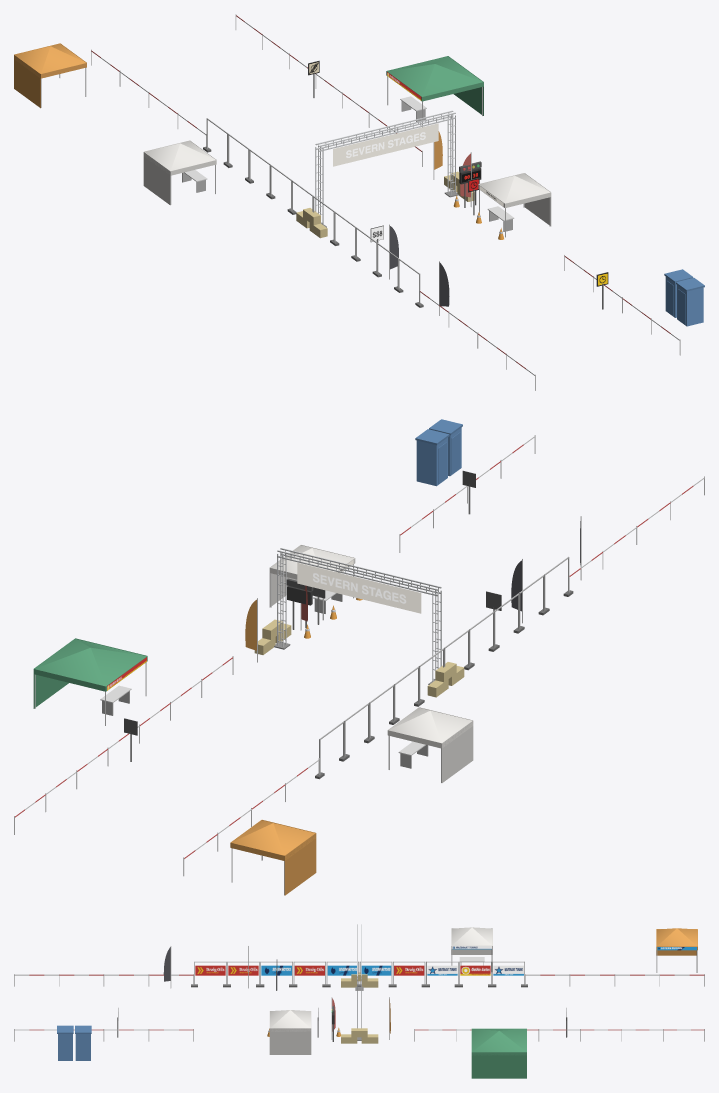
The model's file is start_8.glb.
3 renders of one model, top to bottom at view 1: azimuth 30°, elevation 25°; view 2: azimuth 150°, elevation 25°; view 3: azimuth 270°, elevation 25°, orthographic. The views are drawn at different scales.
Bounding box in the file's own units: 21.23 × 5.1 × 50.05.
Materials: 52 (21 with a texture image).
